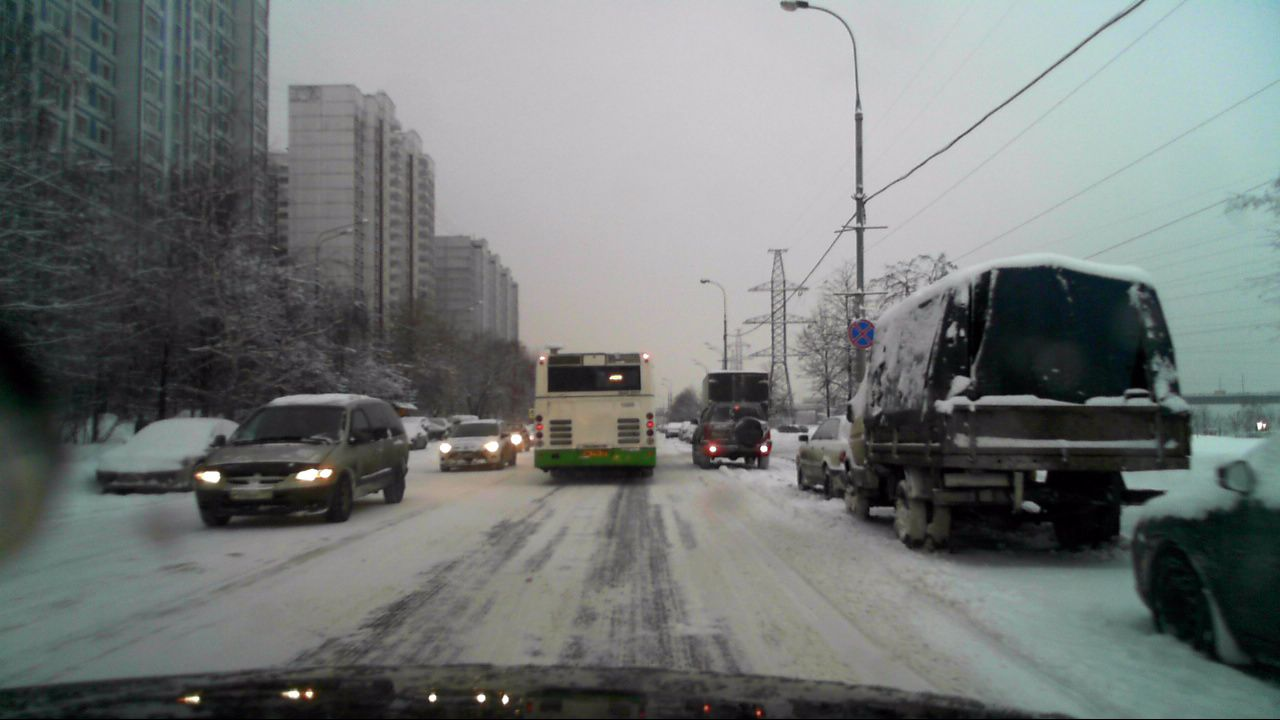No Parking: (846, 318, 876, 351)
